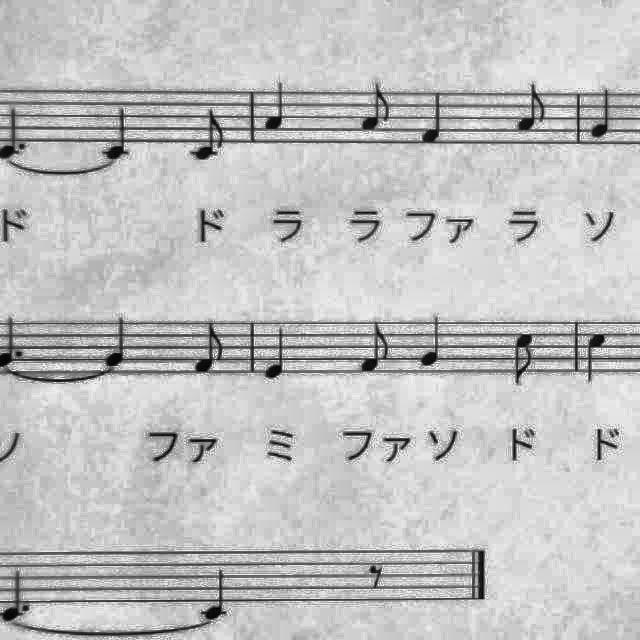Eighth-note: (188, 318, 232, 382), (186, 106, 232, 166), (508, 80, 552, 138), (354, 317, 394, 378), (355, 83, 397, 137), (508, 326, 542, 390)
Eighth-rest: (363, 557, 392, 595)
Quarter-note: (414, 85, 454, 147), (197, 562, 236, 622), (414, 311, 451, 373), (584, 84, 620, 144), (260, 323, 294, 385), (98, 314, 134, 371), (98, 105, 134, 161), (580, 325, 612, 387), (262, 81, 294, 135)
